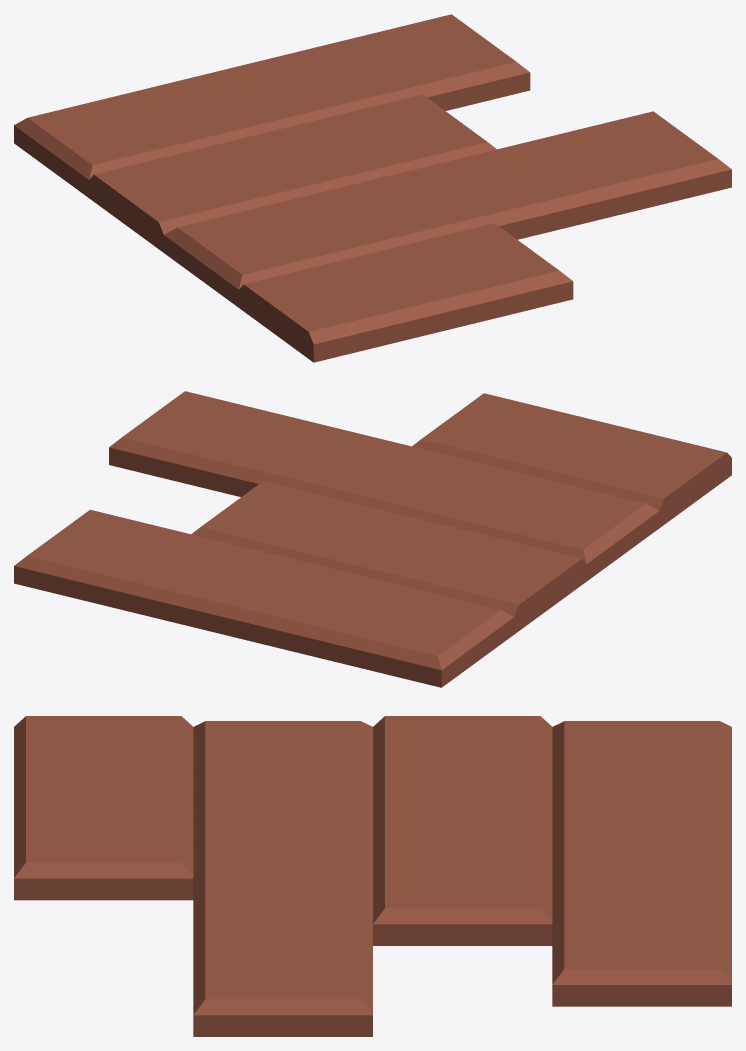
File: floorDecoration_woodRight.fbx
3 views of the same model, one above another, from view 1: azimuth 30°, elevation 25°; view 2: azimuth 150°, elevation 25°; view 3: azimuth 270°, elevation 25° (orthographic). The views are drawn at different scales.
Visible parts, largest first — view 1: floorDecoration_woodRight; view 2: floorDecoration_woodRight; view 3: floorDecoration_woodRight.
Part boxes in pixels (box(x1,y1,x2,y2)): floorDecoration_woodRight: box(14, 14, 731, 362); floorDecoration_woodRight: box(14, 391, 731, 687); floorDecoration_woodRight: box(14, 716, 731, 1036).
Size of the model in its own units: 190 by 10 by 200.
